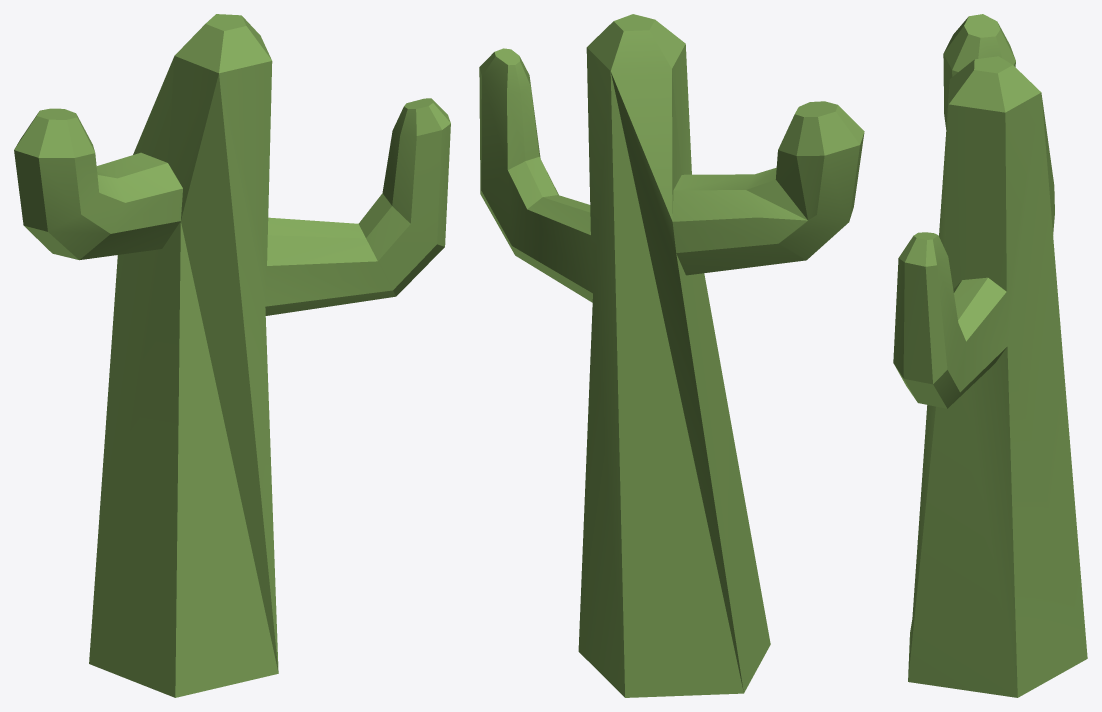
The model's file is Cactus_02.fbx.
The picture shows the model from 3 angles, left to right: view 1: azimuth 30°, elevation 25°; view 2: azimuth 150°, elevation 25°; view 3: azimuth 270°, elevation 25°; orthographic projection. The views are drawn at different scales.
Visible parts, largest first — view 1: Cactus_02; view 2: Cactus_02; view 3: Cactus_02.
Part boxes in pixels (left/top/right/bottom): Cactus_02: left=14, top=14, right=450, bottom=697; Cactus_02: left=479, top=14, right=864, bottom=697; Cactus_02: left=893, top=14, right=1087, bottom=697.
Bounding box in the file's own units: 46.25 × 67.89 × 19.52.
